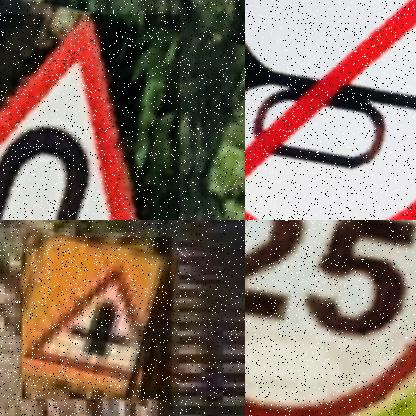Cross Roads: (22, 238, 172, 402)
No Horns: (245, 0, 416, 220)
Speed Limit -25 kmph-: (245, 220, 416, 416)
U-Turn: (0, 14, 137, 220)
